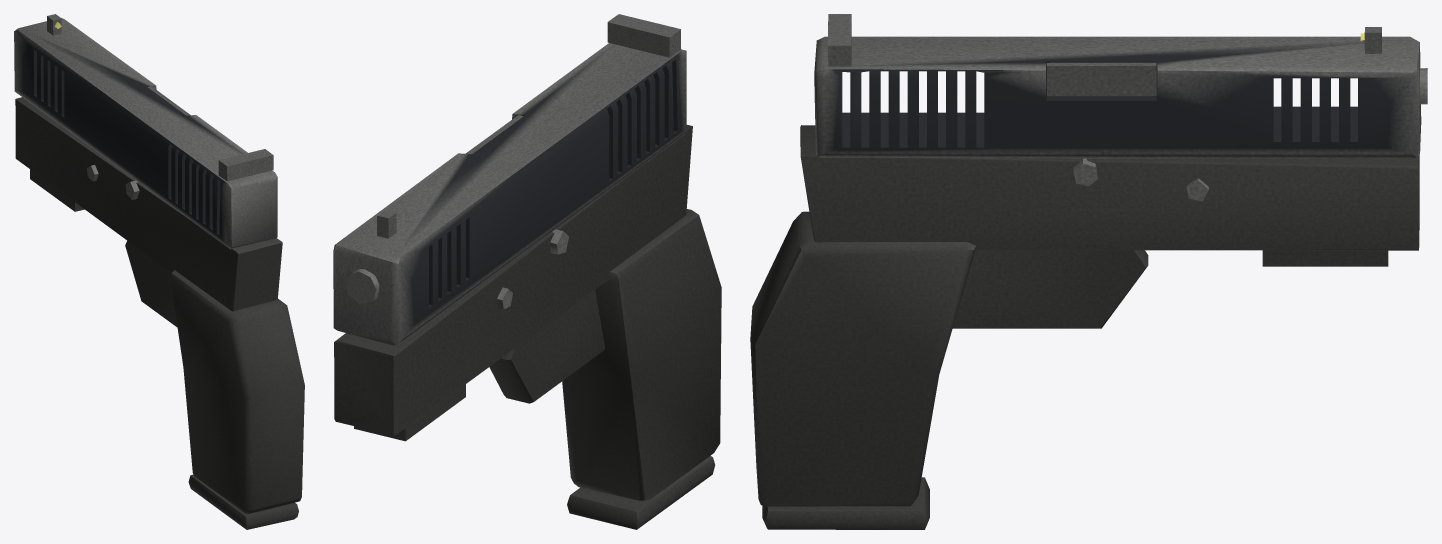
File: SM_WeaponPistol_LOD1.fbx
3 renders of one model, left to right at view 1: azimuth 30°, elevation 25°; view 2: azimuth 150°, elevation 25°; view 3: azimuth 270°, elevation 25°, orthographic. The views are drawn at different scales.
Visible parts, largest first — view 1: SM_WeaponPistol_LOD1; view 2: SM_WeaponPistol_LOD1; view 3: SM_WeaponPistol_LOD1.
Boxes of the visible parts, box(x1,y1,x2,y2) form: SM_WeaponPistol_LOD1: box(14, 14, 304, 529); SM_WeaponPistol_LOD1: box(333, 14, 721, 529); SM_WeaponPistol_LOD1: box(750, 14, 1427, 529).
Bounding box in the file's own units: 0.03 × 0.1673 × 0.212.
Materials: 1 (1 with a texture image).
